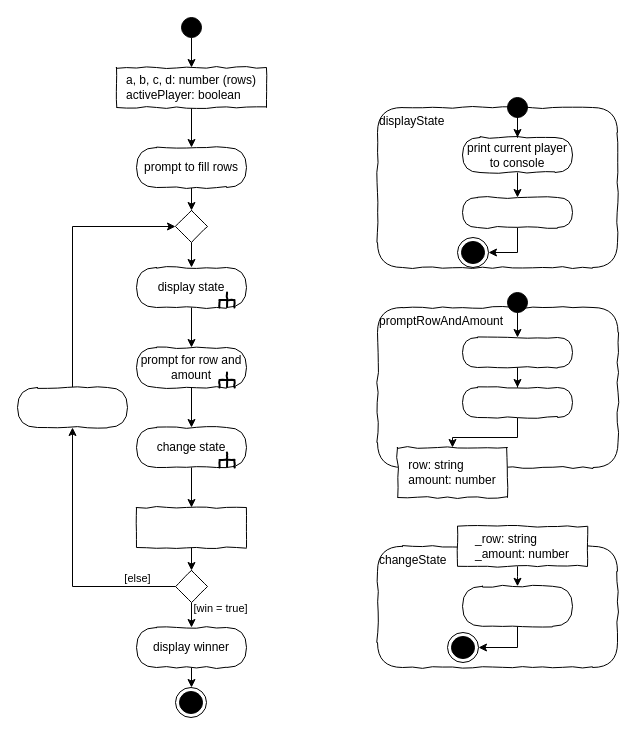
This 636x735 diagram has some shape labels left out. The centre of each missing label's shape, as x and y in pixels:
"change player" belongs at [72,407].
"checkWin()" belongs at [191,527].
"print rows to console" belongs at [517,212].
"prompt for values" belongs at [517,352].
"subtract amount form row" belongs at [517,605].
"validate input" belongs at [517,402].
